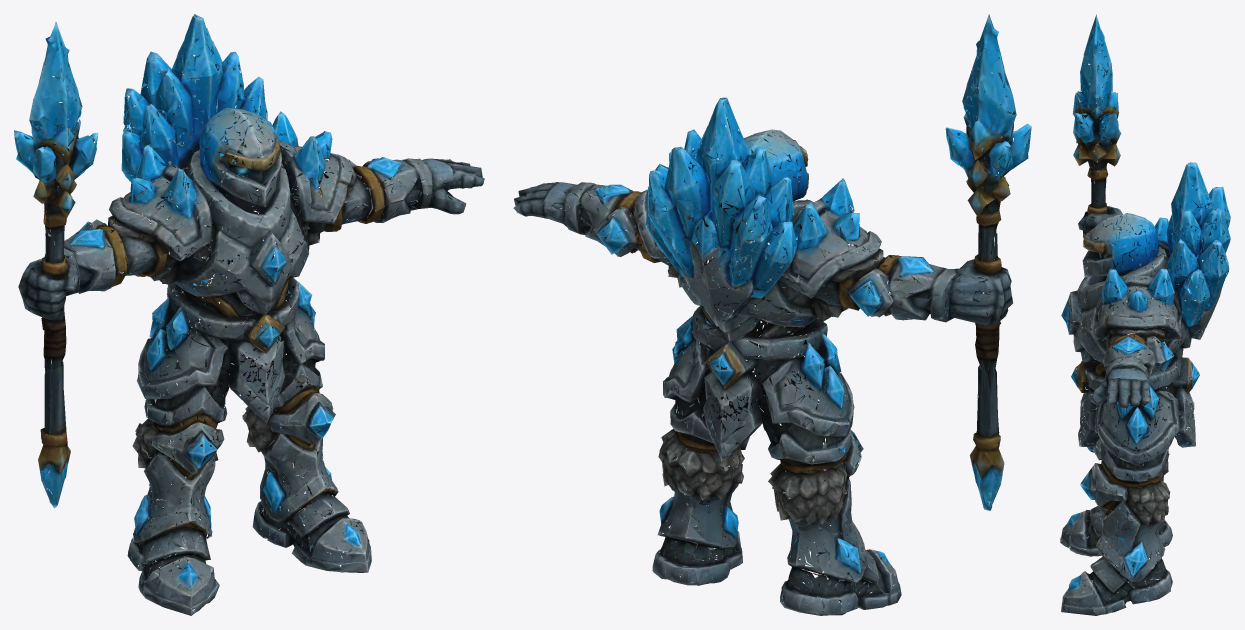
File: Elite.fbx
3 views of the same model, side by side, from view 1: azimuth 30°, elevation 25°; view 2: azimuth 150°, elevation 25°; view 3: azimuth 270°, elevation 25° (orthographic). The views are drawn at different scales.
Visible parts, largest first — view 1: tripo_node_90de3773-8d00-4e7b-ad37-a71c8ca39e85; view 2: tripo_node_90de3773-8d00-4e7b-ad37-a71c8ca39e85; view 3: tripo_node_90de3773-8d00-4e7b-ad37-a71c8ca39e85.
Boxes of the visible parts, x1,y1,x2,y2 form: tripo_node_90de3773-8d00-4e7b-ad37-a71c8ca39e85: (14, 14, 484, 615); tripo_node_90de3773-8d00-4e7b-ad37-a71c8ca39e85: (513, 14, 1031, 615); tripo_node_90de3773-8d00-4e7b-ad37-a71c8ca39e85: (1060, 14, 1230, 615).
Size of the model in its own units: 180 by 220 by 69.93.
